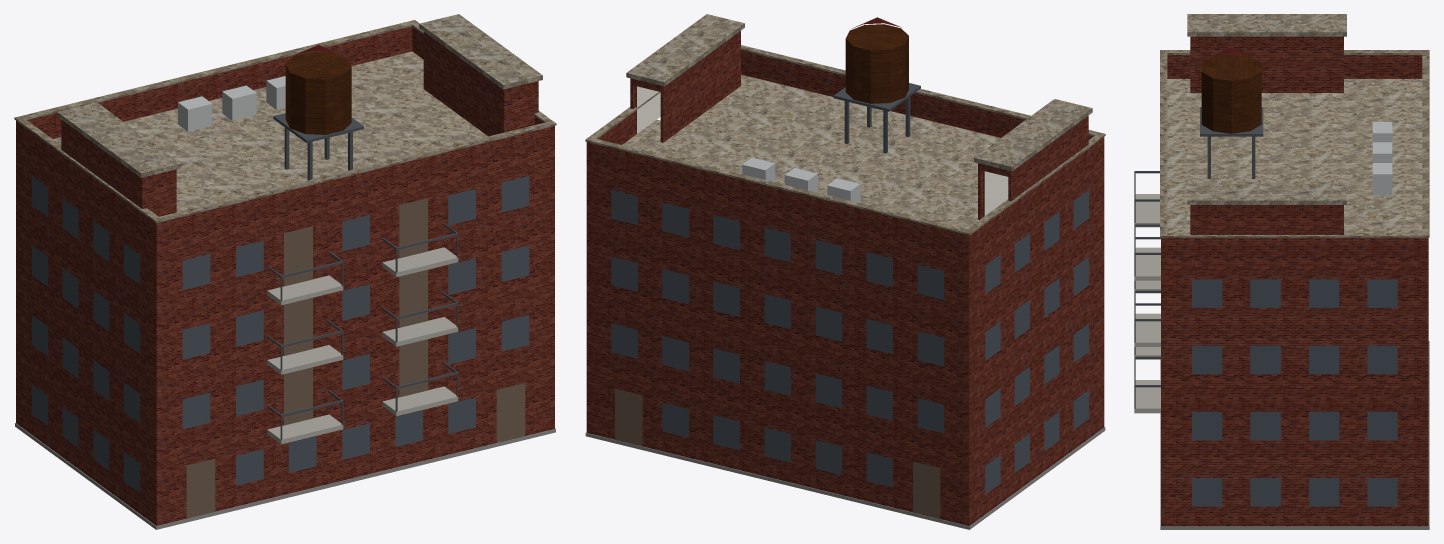
File: mh-block-flats.towns-v1.lod1.glb
3 views of the same model, side by side, from view 1: azimuth 30°, elevation 25°; view 2: azimuth 150°, elevation 25°; view 3: azimuth 270°, elevation 25° (orthographic). The views are drawn at different scales.
Visible parts, largest first — view 1: mh-block-flats; view 2: mh-block-flats; view 3: mh-block-flats.
Part boxes in pixels (x1,y1,x2,y2): mh-block-flats: (14, 14, 556, 529); mh-block-flats: (585, 14, 1105, 529); mh-block-flats: (1134, 14, 1429, 529).
Bounding box in the file's own units: 18.14 × 17.65 × 12.14.
4 materials, 3 textured.
